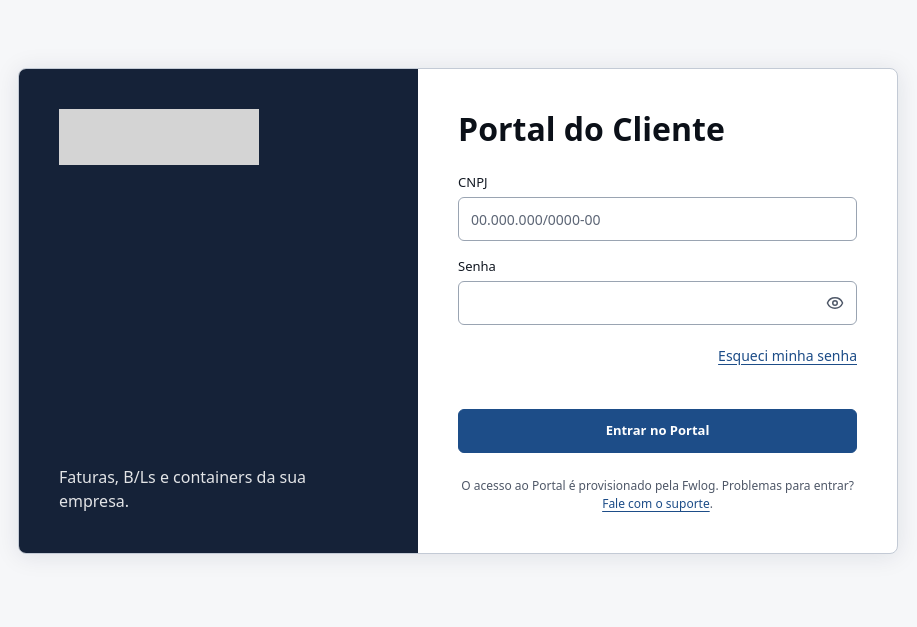
Test case: senha errada em CNPJ completo mantem a mensagem generica de credenciais
Type "12.345.678/0001-95" into the field with placeholder "00.000.000/0000-00" at (658, 219), box top-left (458, 197), bottom-right (857, 241)
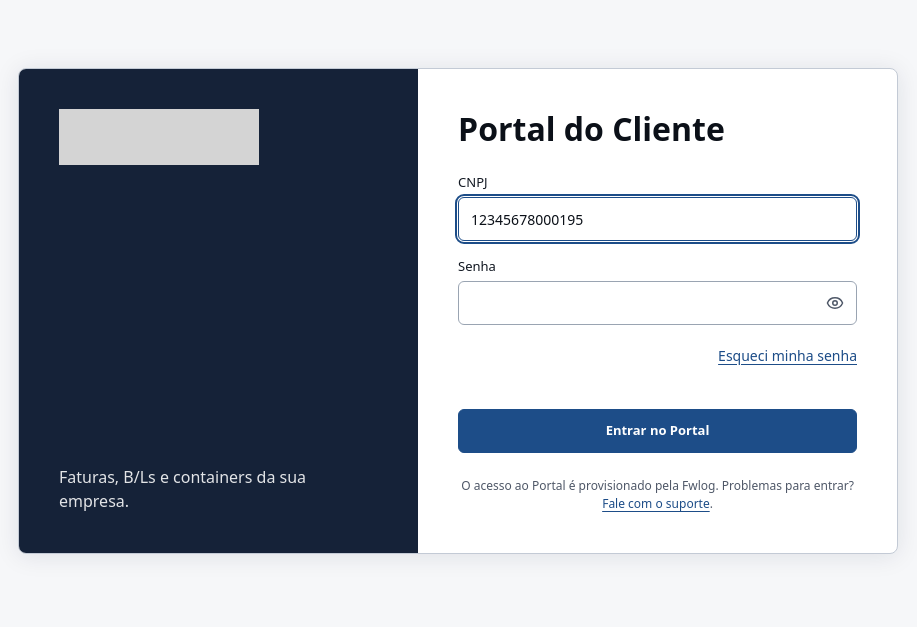
Type "senha-errada" into the password field labelled "Senha" at (658, 303), box top-left (458, 281), bottom-right (857, 325)
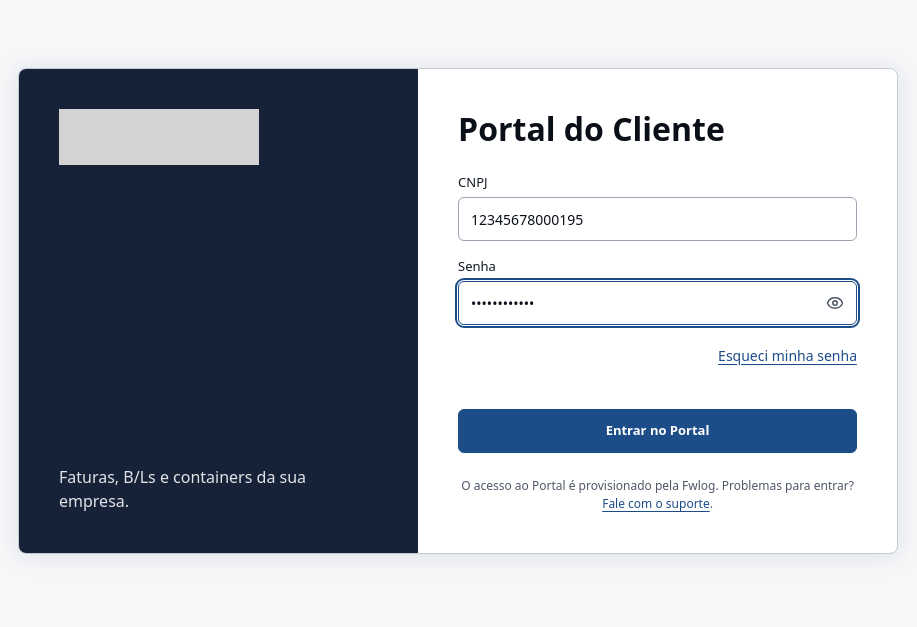
Click the button "Entrar no Portal" at (658, 431), box top-left (458, 409), bottom-right (857, 453)
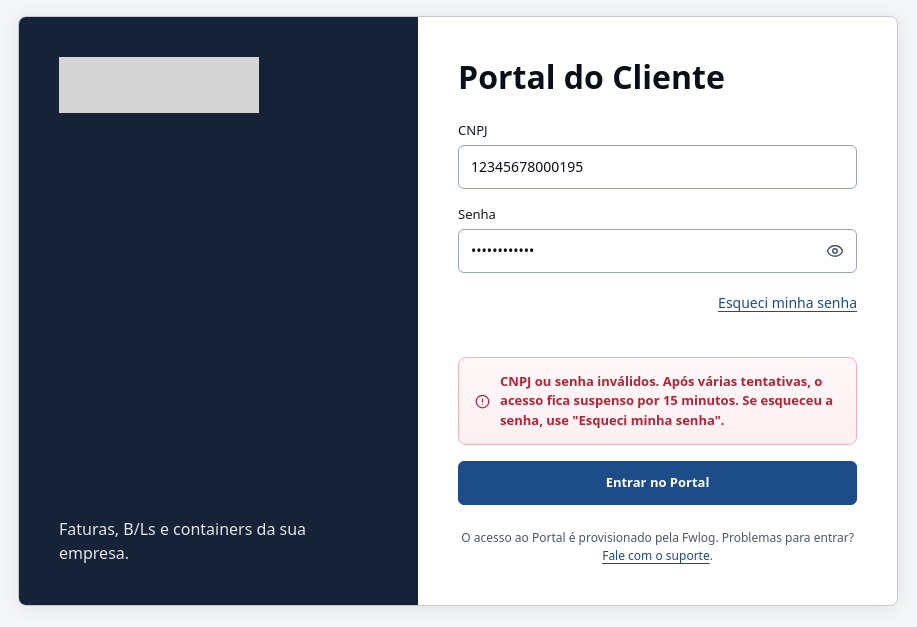
Expected: the text "CNPJ ou senha inválidos. Após várias tentativas, o acesso fica suspenso por 15 minutos. Se esqueceu a senha, use \"Esquec" is shown, top-left (500, 372), bottom-right (833, 429)
